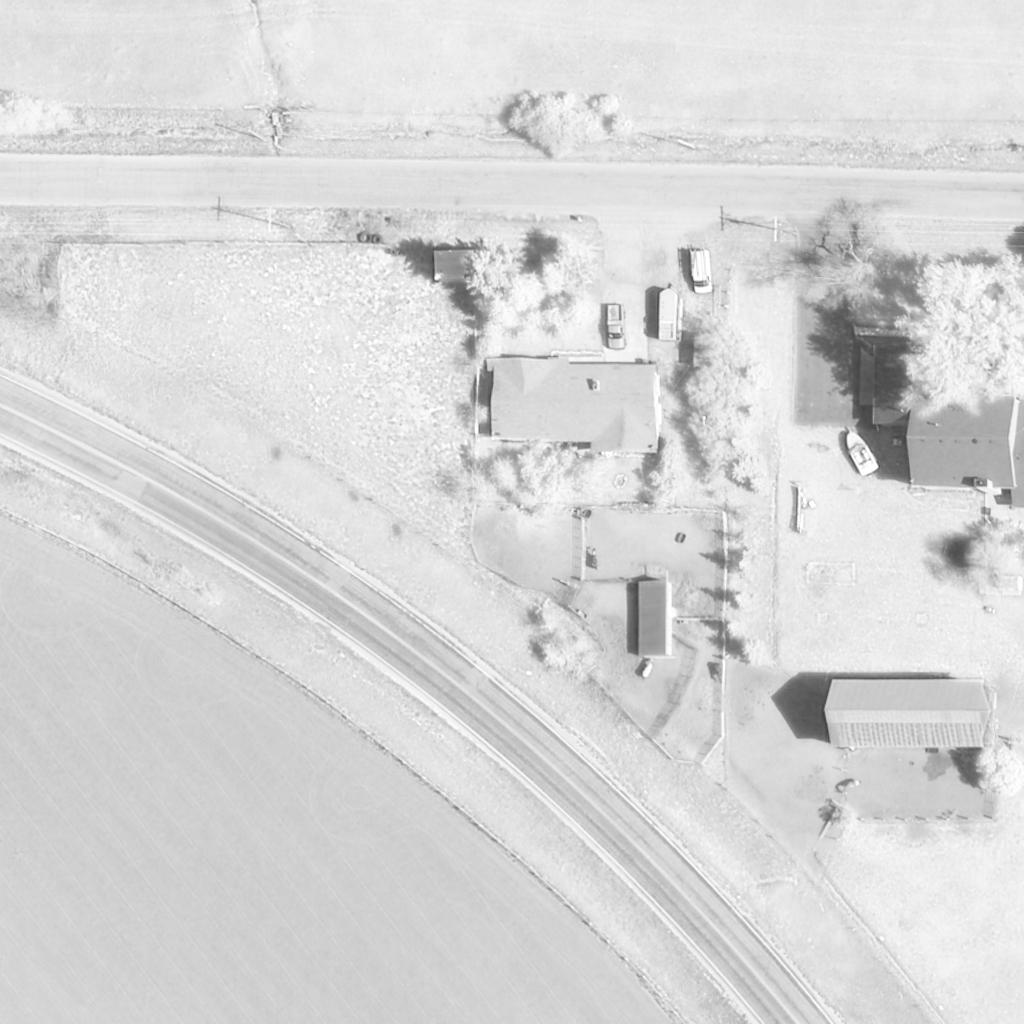vehicle: (839, 429, 881, 477), (658, 283, 684, 343), (605, 306, 627, 348), (694, 250, 714, 294)
